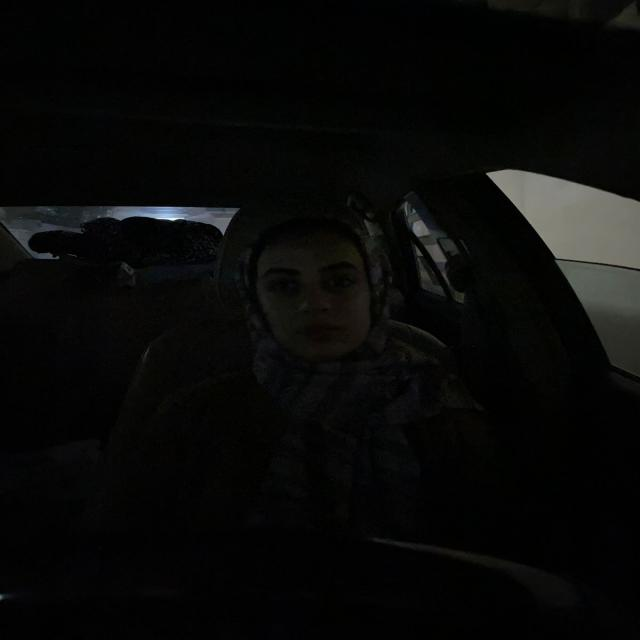person: (232, 211, 389, 367)
